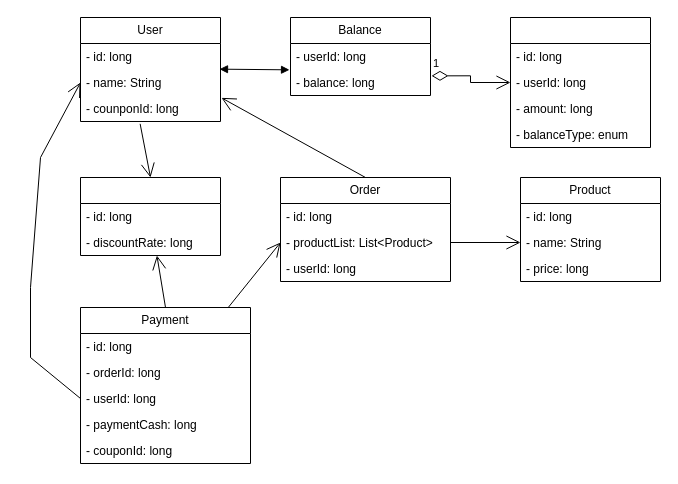
This 678x484 diagram has some shape labels left out. The shapes that lost their labels are listed below. From the top down, each one's box as (x1, y1, x2, y2) in pixels, then its label:
(510, 16, 650, 148): BalanceHistory
(80, 176, 220, 256): Coupon
